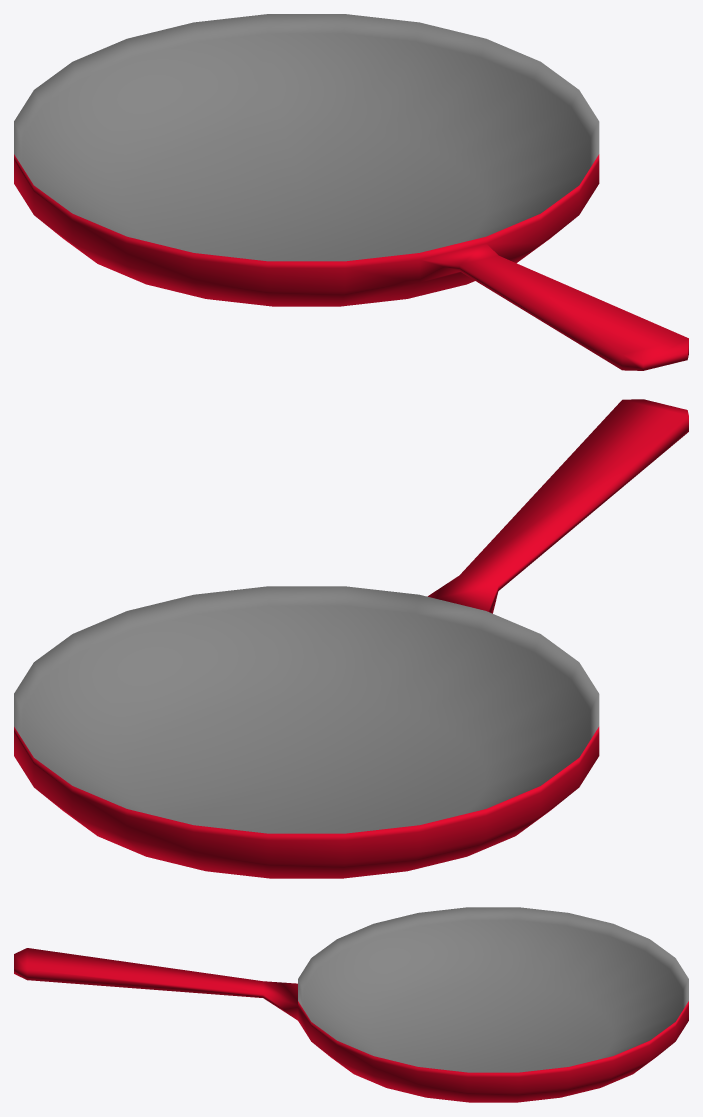
Rendered from fryingpan.fbx.
The picture shows the model from 3 angles, top to bottom: view 1: azimuth 30°, elevation 25°; view 2: azimuth 150°, elevation 25°; view 3: azimuth 270°, elevation 25°; orthographic projection. The views are drawn at different scales.
Parts seen in each view (by area): view 1: fryingpan; view 2: fryingpan; view 3: fryingpan.
Part boxes in pixels (box(x1,y1,x2,y2)): fryingpan: box(14, 14, 688, 370); fryingpan: box(14, 399, 688, 878); fryingpan: box(14, 907, 688, 1102).
Size of the model in its own units: 41.64 by 9.78 by 71.88.
